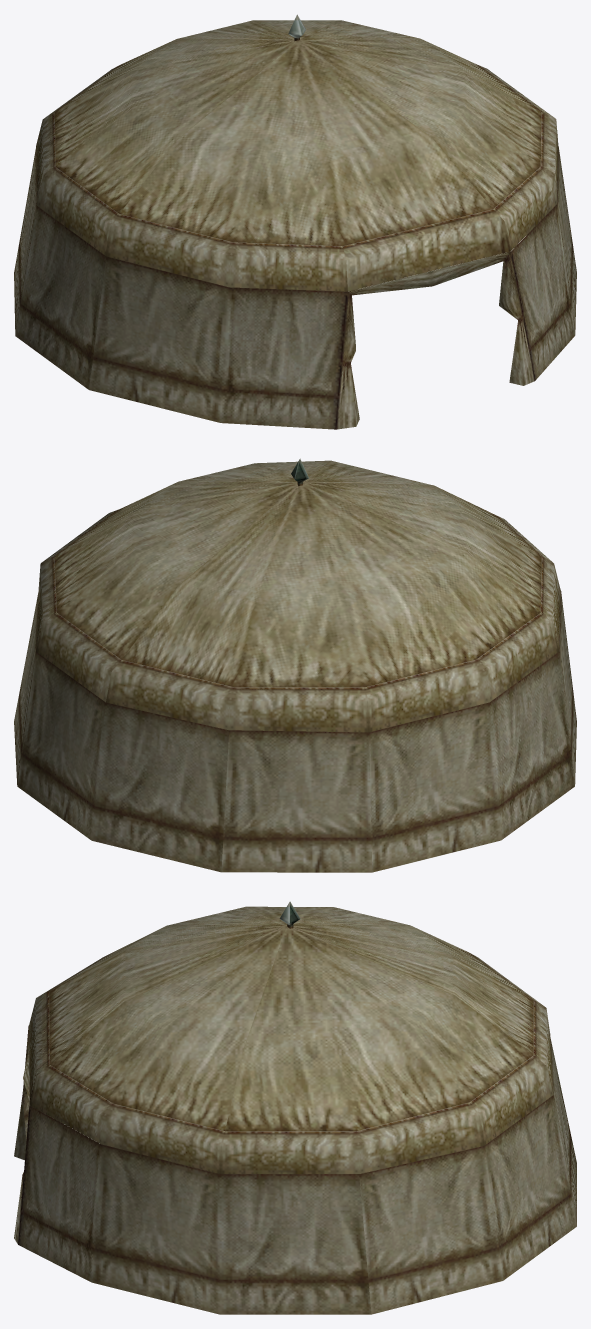
Rendered from general_obj_tent01.glb.
3 renders of one model, top to bottom at view 1: azimuth 30°, elevation 25°; view 2: azimuth 150°, elevation 25°; view 3: azimuth 270°, elevation 25°, orthographic.
Visible parts, largest first — view 1: Mesh02; view 2: Mesh02; view 3: Mesh02.
Boxes of the visible parts, x1=… form: Mesh02: x1=14, y1=14, x2=576, y2=429; Mesh02: x1=14, y1=458, x2=576, y2=872; Mesh02: x1=14, y1=901, x2=576, y2=1314.
Bounding box in the file's own units: 11.36 × 6.53 × 11.34.
Materials: 1 (1 with a texture image).
